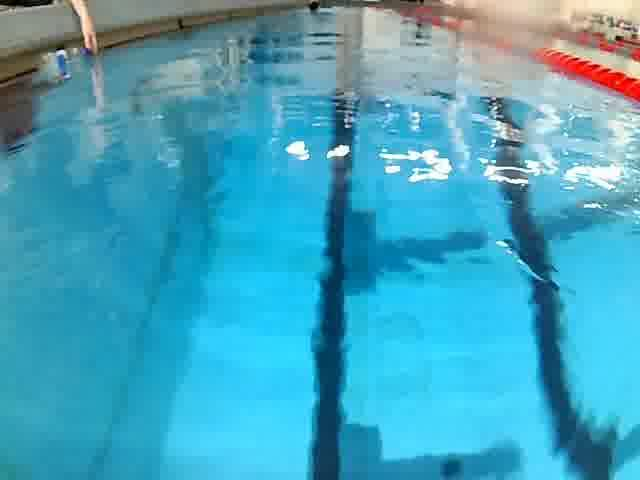Bottle: (34, 41, 99, 86)
